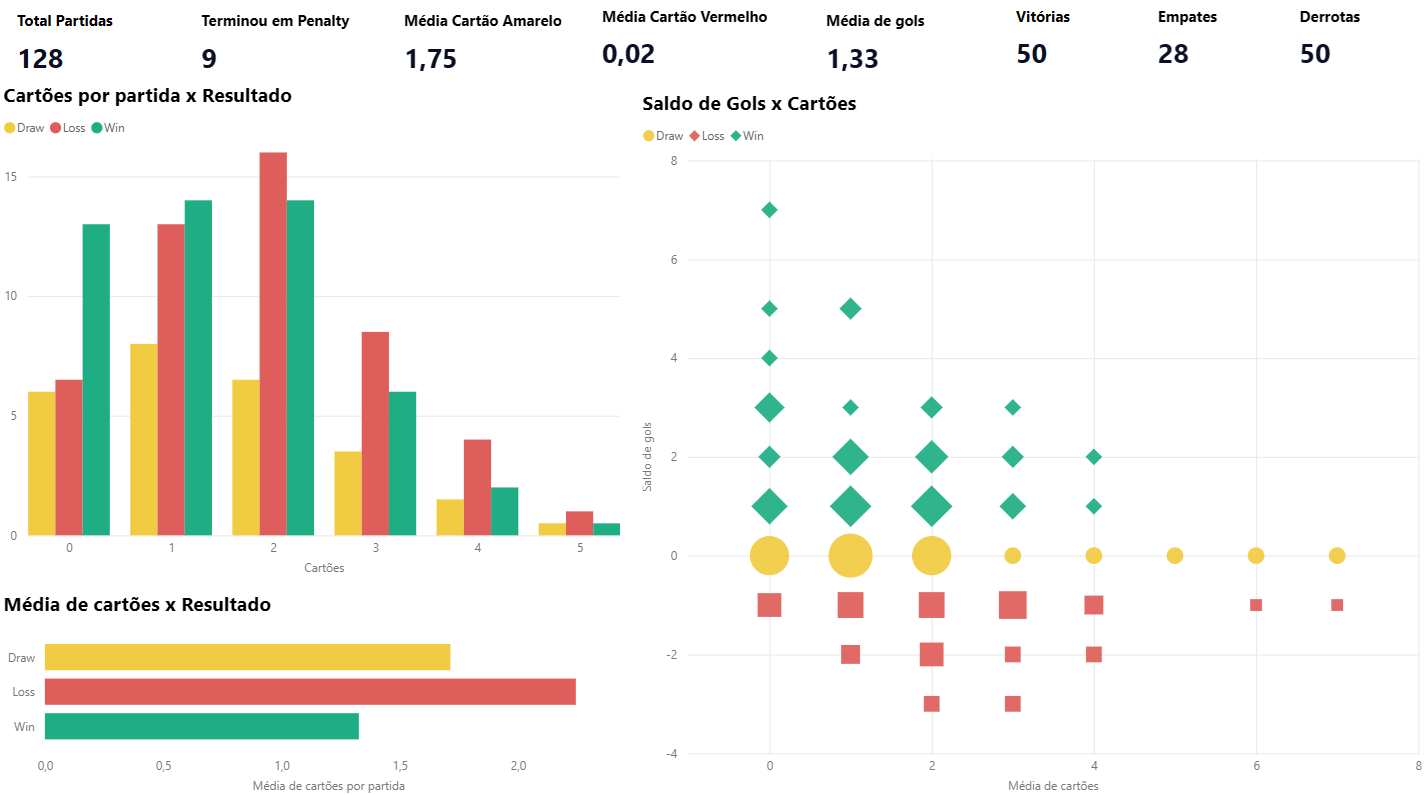

This screenshot's page, from the dashboard's own definition file:
{"tool":"powerbi","page":{"name":"Cartões x Resultado","canvas":[1280,720],"ordinal":0},"visuals":[{"type":"cardVisual","fields":{"Data":["Avg(matches_simple.yellow_cards)"]},"box":[346.7,0,197.5,84.7],"z":0},{"type":"cardVisual","fields":{"Data":["Avg(matches_simple.red_cards)"]},"box":[524.1,0,200.6,76.6],"z":1000},{"type":"cardVisual","fields":{"Data":["Avg(matches_simple.goals)"]},"box":[724.5,0,187,84.5],"z":2000},{"type":"cardVisual","fields":{"Data":["matches_simple.n_partidas","matches_shootout.n_penalty"]},"box":[0,0,332.4,84.5],"z":3000},{"type":"cardVisual","fields":{"Data":["matches_simple.Cont_wins","matches_simple.Cont_draw","matches_simple.Cont_loss"]},"box":[895,0,385,76.6],"z":4000},{"type":"clusteredColumnChart","title":"Cartões por partida x Resultado","fields":{"Category":["matches_simple.total_cards"],"Series":["matches_simple.result"],"Y":["matches_simple.n_partidas"]},"box":[0,76.6,562.4,447.5],"z":5000},{"type":"scatterChart","title":"Saldo de Gols x Cartões","fields":{"X":["matches_simple.total_cards"],"Y":["matches_simple.goal_difference"],"Series":["matches_simple.result"],"Size":["CountNonNull(matches_simple.match_id)"]},"box":[572.4,84.5,707.6,635.5],"z":6000},{"type":"barChart","title":"Média de cartões x Resultado","fields":{"Category":["matches_simple.Round","matches_simple.is_home","matches_simple.result"],"Y":["Avg(matches_simple.total_cards)"]},"box":[0,533.2,562.4,187.5],"z":7000}]}

Visuals, with their boxes in screenshot pixels (x1, y1, x2, y2), scaled from the page's 1280x720 canvas onto the 1426x795 screenshot:
cardVisual - Avg(matches_simple.yellow_cards): [386, 0, 606, 94]
cardVisual - Avg(matches_simple.red_cards): [584, 0, 807, 85]
cardVisual - Avg(matches_simple.goals): [807, 0, 1015, 93]
cardVisual - matches_simple.n_partidas x matches_shootout.n_penalty: [0, 0, 370, 93]
cardVisual - matches_simple.Cont_wins x matches_simple.Cont_draw: [997, 0, 1425, 85]
"Cartões por partida x Resultado" clusteredColumnChart: [0, 85, 627, 579]
"Saldo de Gols x Cartões" scatterChart: [638, 93, 1425, 794]
"Média de cartões x Resultado" barChart: [0, 589, 627, 794]
